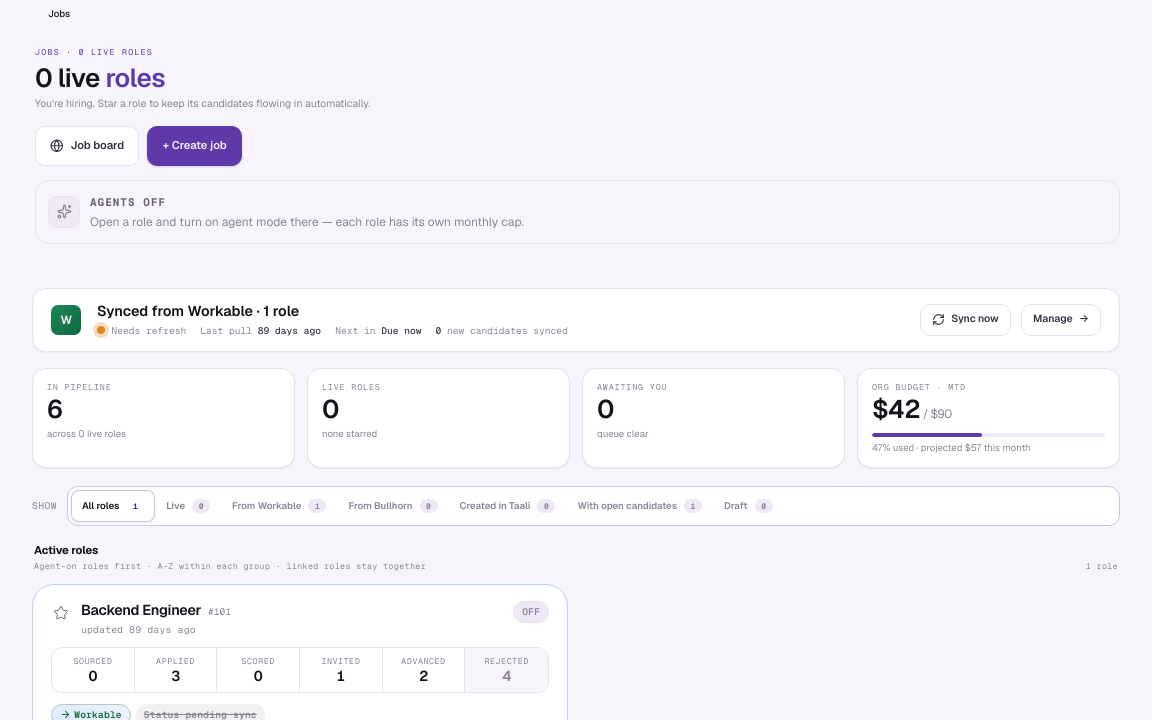
Test case: JobsPage Workable sync states › treats an already-running sync response as active work instead of an error
Click the button "Sync now" at (965, 320), box [920, 304, 1011, 336]
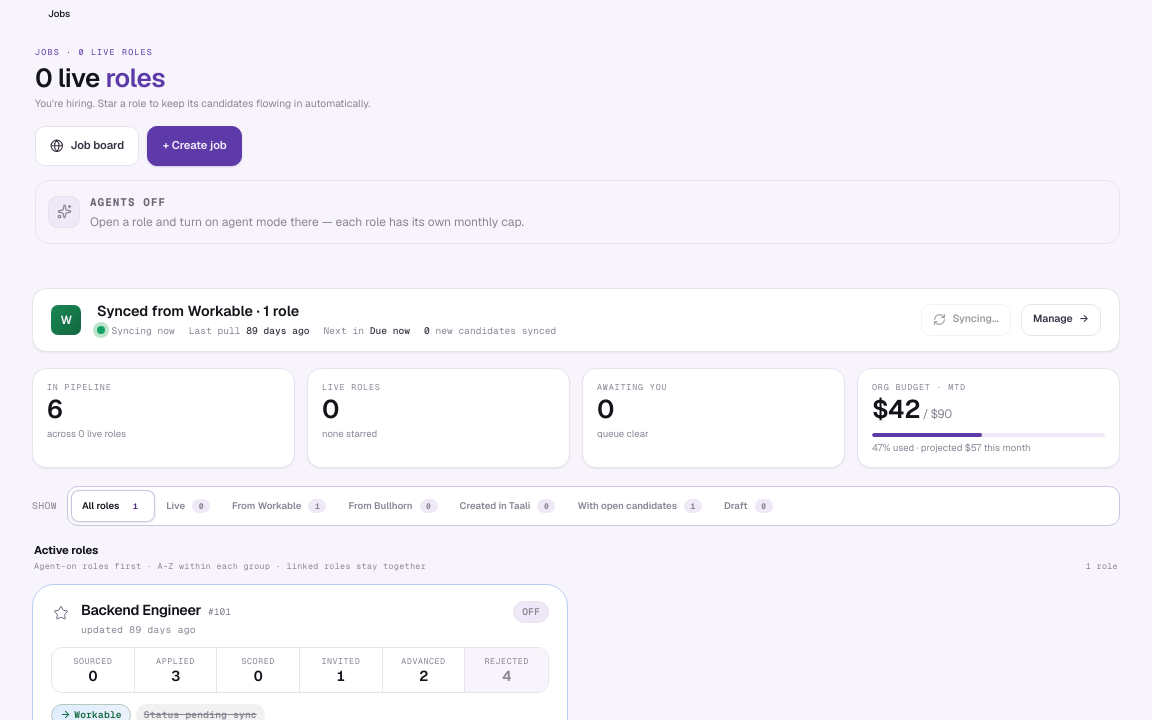
Now the button "Syncing…" is disabled, box [921, 304, 1011, 336]
